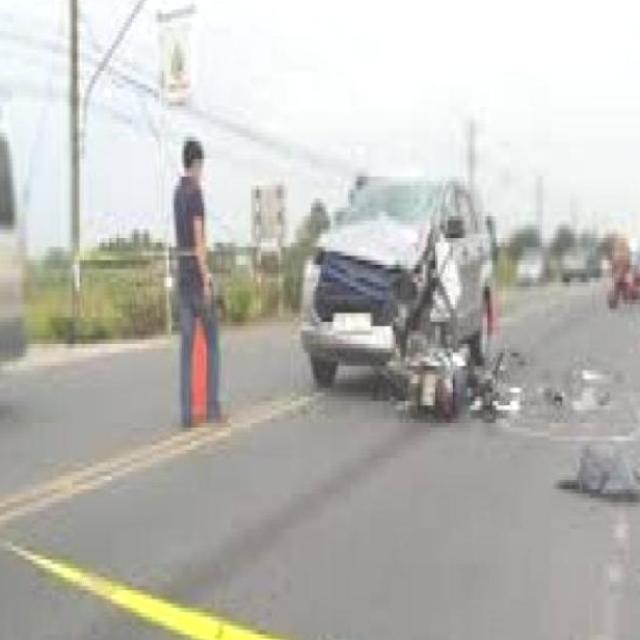accident: (287, 180, 529, 452)
